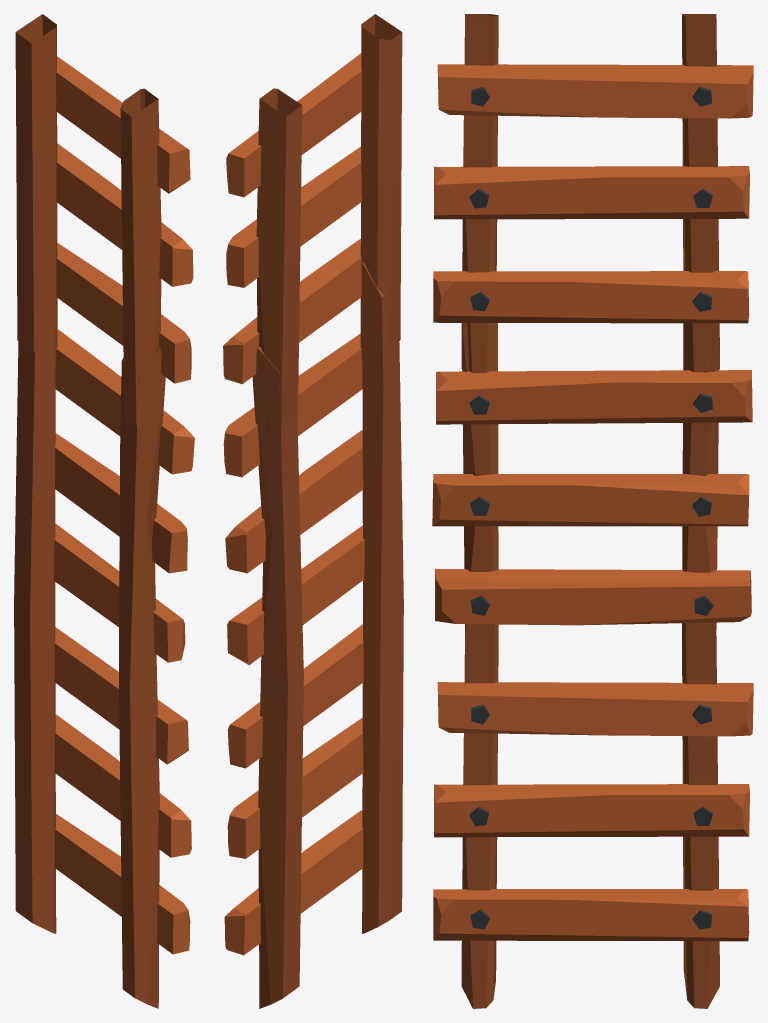
File: louti2.fbx
3 renders of one model, left to right at view 1: azimuth 30°, elevation 25°; view 2: azimuth 150°, elevation 25°; view 3: azimuth 270°, elevation 25°, orthographic. The views are drawn at different scales.
Visible parts, largest first — view 1: group23; view 2: group23; view 3: group23.
Boxes of the visible parts, x1,y1,x2,y2 form: group23: (14, 14, 194, 1008); group23: (223, 14, 403, 1008); group23: (432, 14, 753, 1008).
Bounding box in the file's own units: 31.27 × 496 × 146.
